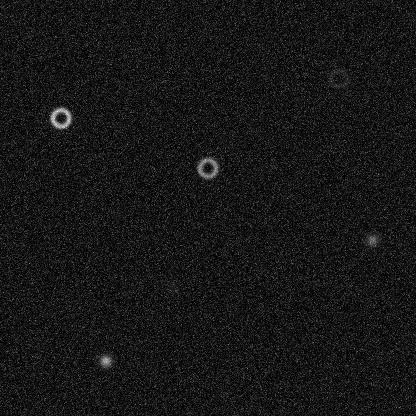Ring: (48, 105, 72, 129), (195, 155, 219, 179), (326, 66, 350, 90)
Spot: (97, 352, 113, 368), (363, 231, 379, 247), (164, 278, 180, 294)
